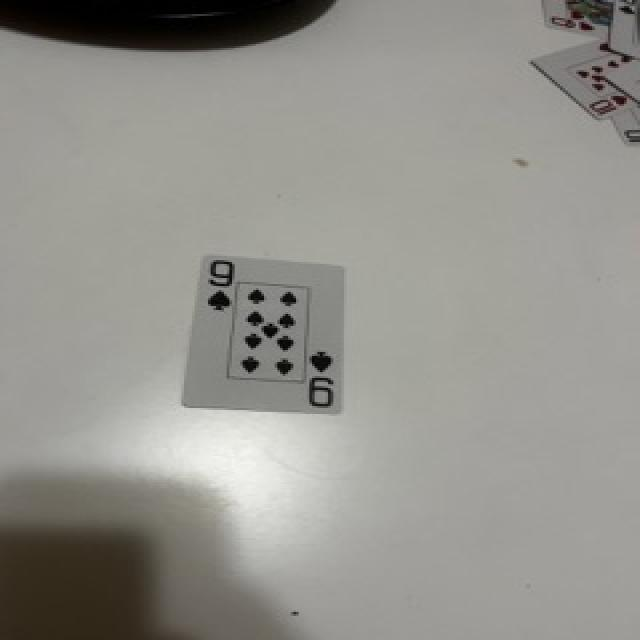9 of spades: (185, 256, 343, 412)
